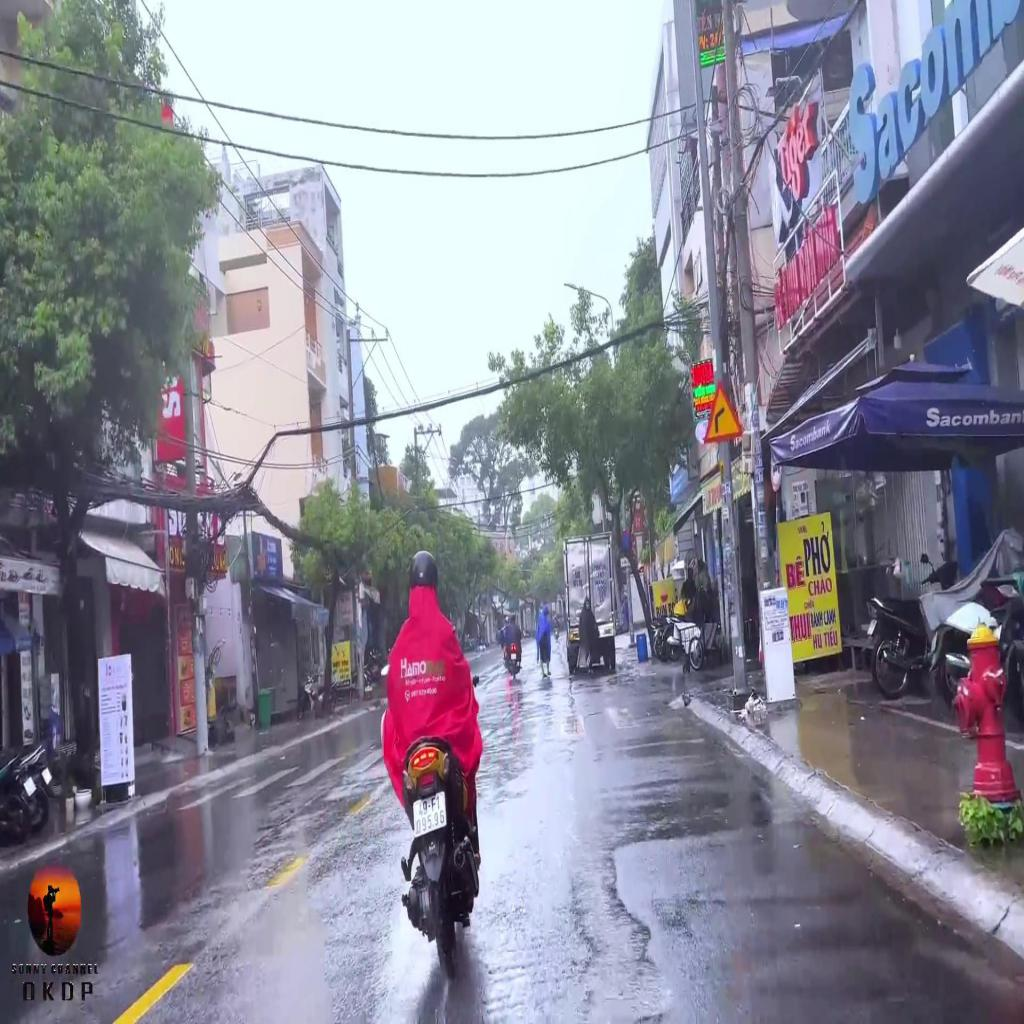cho_ngoat_nguy_hiem_ben_phai: (703, 379, 745, 445)
